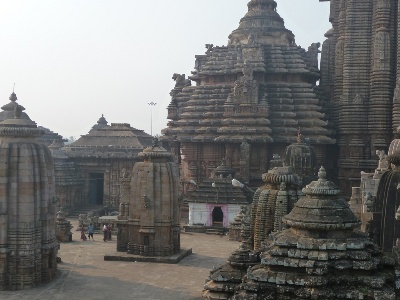amalaka: (2, 116, 52, 148), (133, 143, 177, 167)
gopuram: (2, 140, 67, 257), (120, 159, 194, 240)
